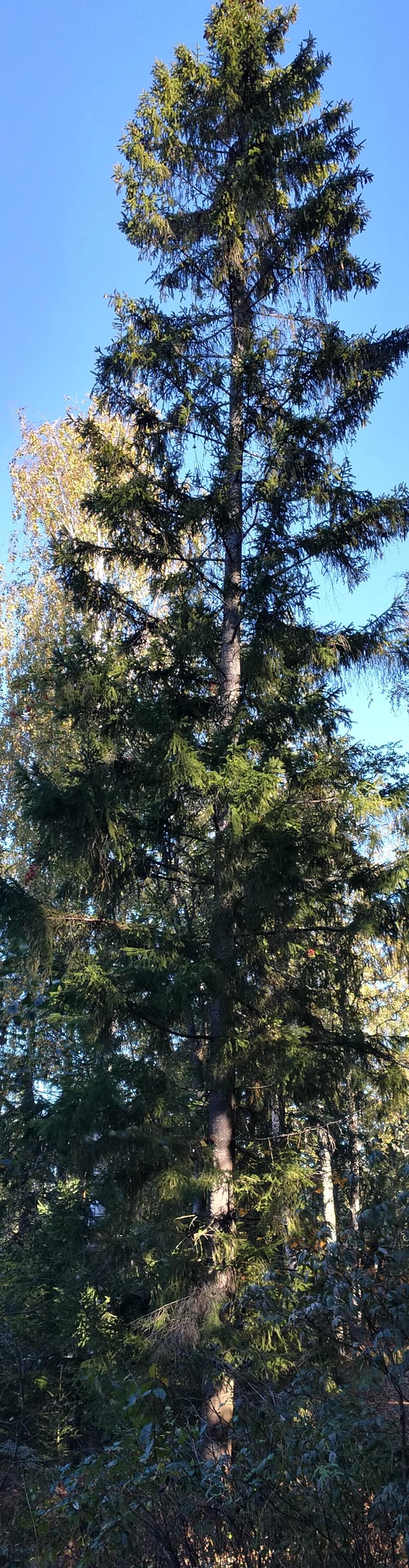Spruce: (2, 0, 407, 1553)
